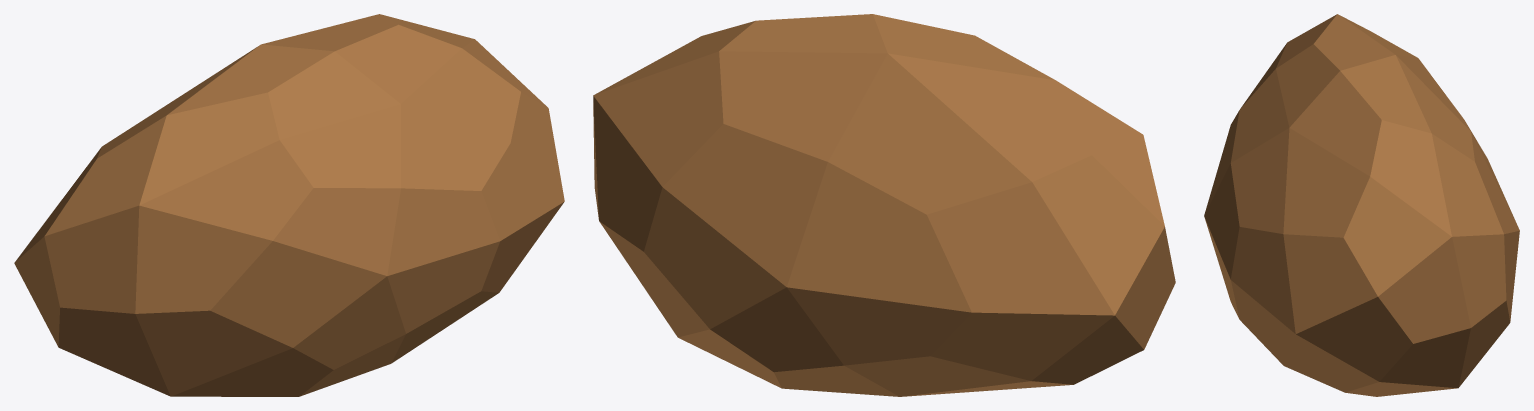
Rendered from Huge_Rock_5_3_3_Colored.fbx.
3 views of the same model, side by side, from view 1: azimuth 30°, elevation 25°; view 2: azimuth 150°, elevation 25°; view 3: azimuth 270°, elevation 25° (orthographic). The views are drawn at different scales.
Parts seen in each view (by area): view 1: Huge_Rock_5_3_3; view 2: Huge_Rock_5_3_3; view 3: Huge_Rock_5_3_3.
Boxes of the visible parts, x1=… form: Huge_Rock_5_3_3: x1=14, y1=14, x2=564, y2=396; Huge_Rock_5_3_3: x1=593, y1=14, x2=1175, y2=396; Huge_Rock_5_3_3: x1=1204, y1=14, x2=1519, y2=396.
Bounding box in the file's own units: 495 × 294 × 283.
